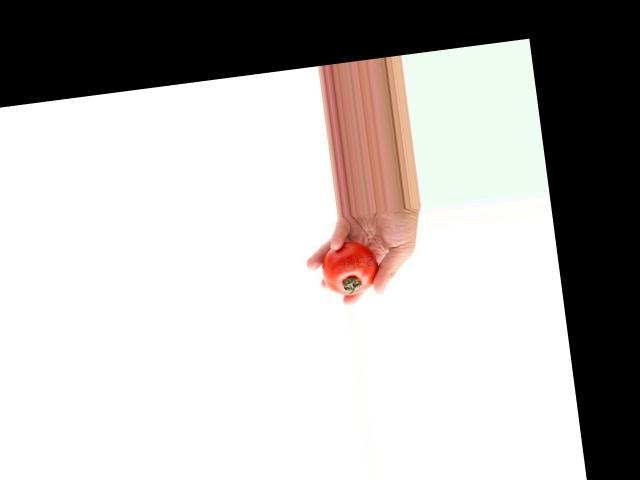tomato: (318, 238, 380, 298)
